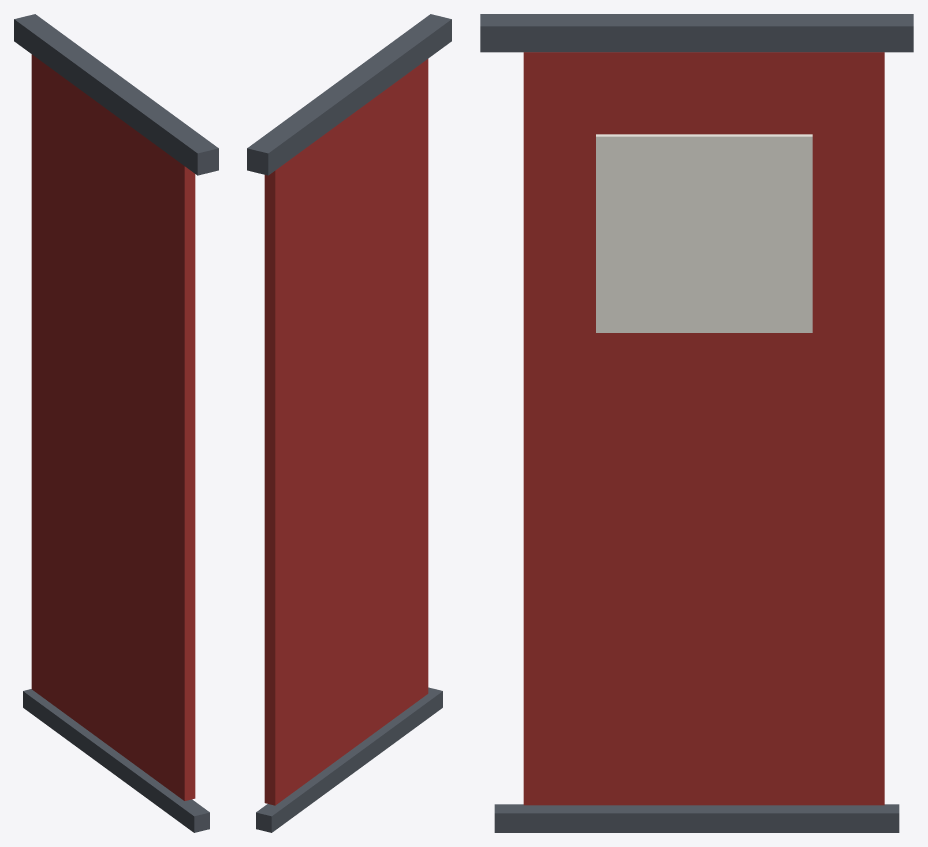
The model's file is Banner_Red.fbx.
3 views of the same model, side by side, from view 1: azimuth 30°, elevation 25°; view 2: azimuth 150°, elevation 25°; view 3: azimuth 270°, elevation 25° (orthographic). The views are drawn at different scales.
Parts seen in each view (by area): view 1: Flag, Arm.001; view 2: Flag, Arm.001; view 3: Flag, Mark, Arm.001.
Boxes of the visible parts, x1,y1,x2,y2 form: Flag: [31, 54, 195, 800]; Arm.001: [14, 14, 218, 832]; Flag: [264, 59, 428, 805]; Arm.001: [247, 14, 451, 832]; Flag: [523, 52, 884, 805]; Mark: [596, 134, 812, 332]; Arm.001: [480, 14, 913, 832].
Bounding box in the file's own units: 0.04 × 1.24 × 0.6.
